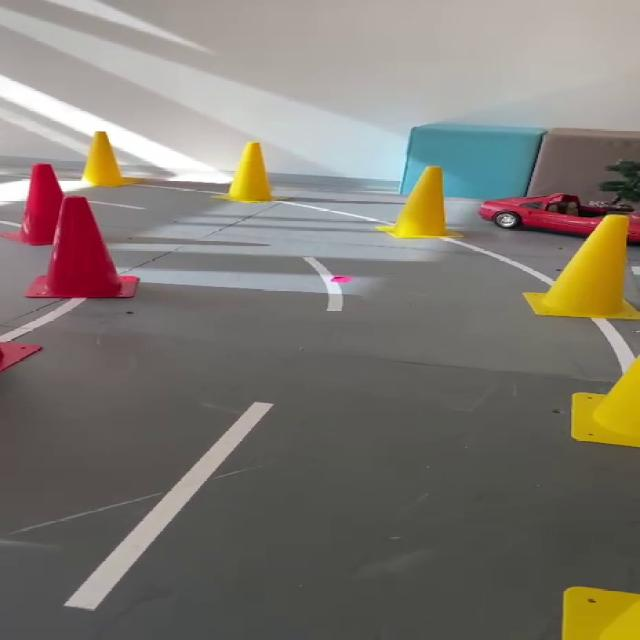Cone-red: (26, 196, 138, 298), (7, 164, 62, 245), (0, 342, 41, 372)
Cones-yellow: (526, 215, 639, 319), (572, 357, 639, 447), (378, 166, 448, 238), (524, 279, 606, 332), (561, 587, 639, 639), (225, 143, 272, 202), (83, 132, 131, 186), (572, 392, 608, 421)
